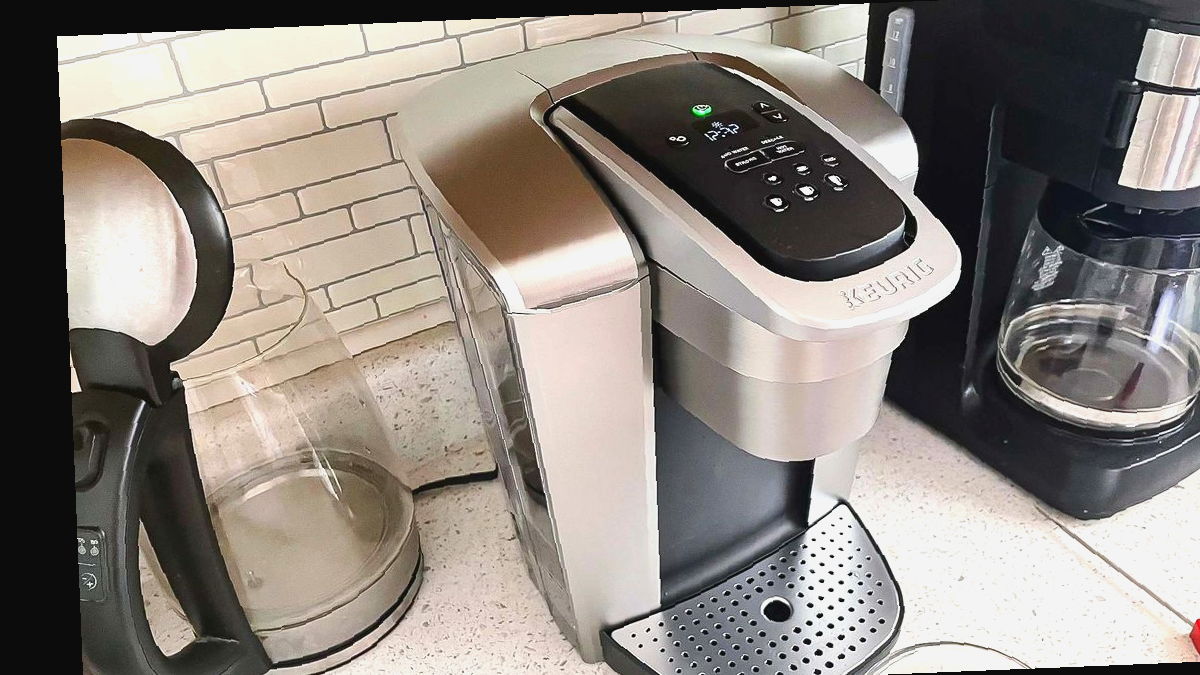10oz: (793, 181, 822, 204)
12oz: (824, 171, 851, 194)
4oz: (762, 171, 784, 186)
6oz: (792, 161, 813, 176)
8oz: (760, 194, 789, 215)
add_water: (716, 134, 756, 161)
coffee_handle: (842, 267, 973, 350)
descale: (753, 121, 794, 148)
hot: (761, 133, 806, 165)
iced: (820, 152, 842, 169)
power: (691, 103, 712, 118)
strong: (723, 148, 765, 178)
water_handle: (508, 269, 648, 329)
